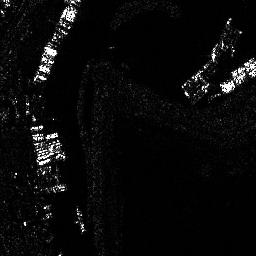ship: (74, 207, 86, 233)
